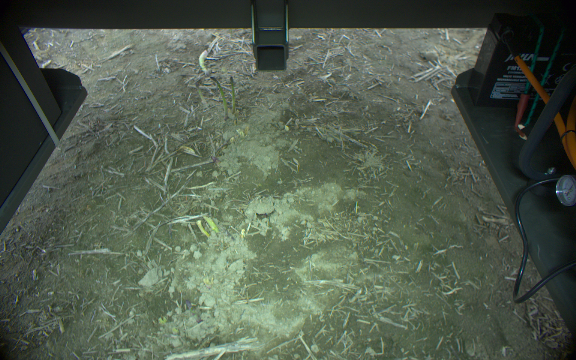aspa: (208, 76, 228, 121), (225, 76, 240, 115), (196, 47, 211, 75), (201, 214, 219, 235), (194, 217, 206, 240)
